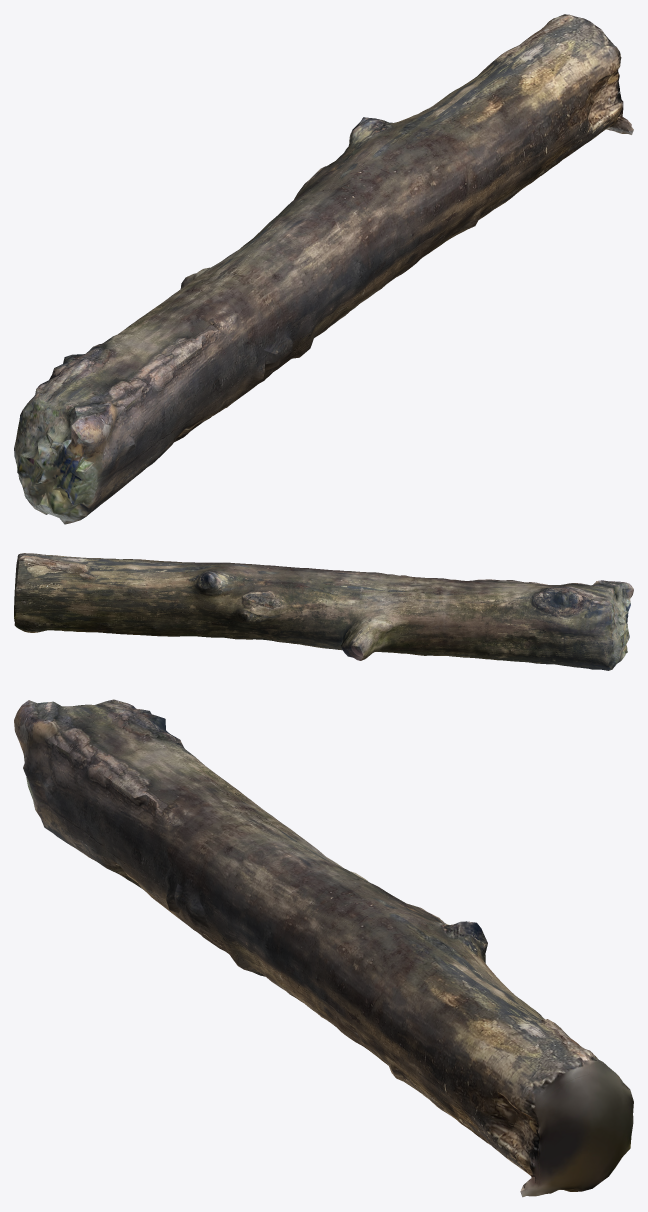
The model's file is log_photogrammetrised.glb.
3 renders of one model, top to bottom at view 1: azimuth 30°, elevation 25°; view 2: azimuth 150°, elevation 25°; view 3: azimuth 270°, elevation 25°, orthographic. The views are drawn at different scales.
Parts seen in each view (by area): view 1: Object_2; view 2: Object_2; view 3: Object_2.
Part boxes in pixels (x1,y1,x2,y2): Object_2: [14, 14, 633, 524]; Object_2: [14, 553, 633, 670]; Object_2: [14, 699, 633, 1197].
Bounding box in the file's own units: 9.89 × 1.93 × 5.9.
1 material, 1 textured.
